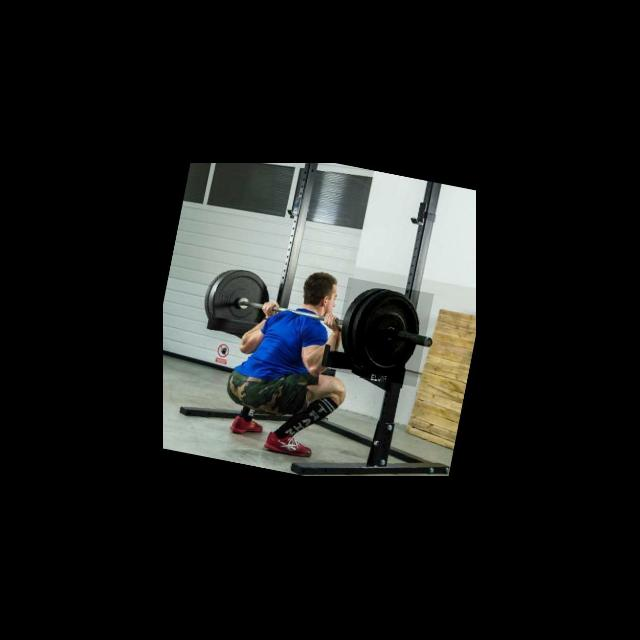barbell: (331, 278, 434, 387)
